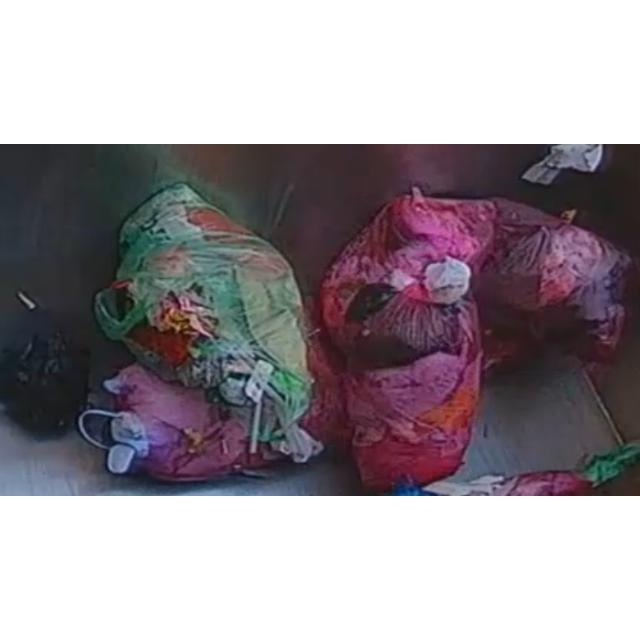general_trashbag: (95, 183, 310, 433)
other_trashbag: (331, 256, 480, 488), (472, 199, 632, 357), (322, 190, 498, 305)
